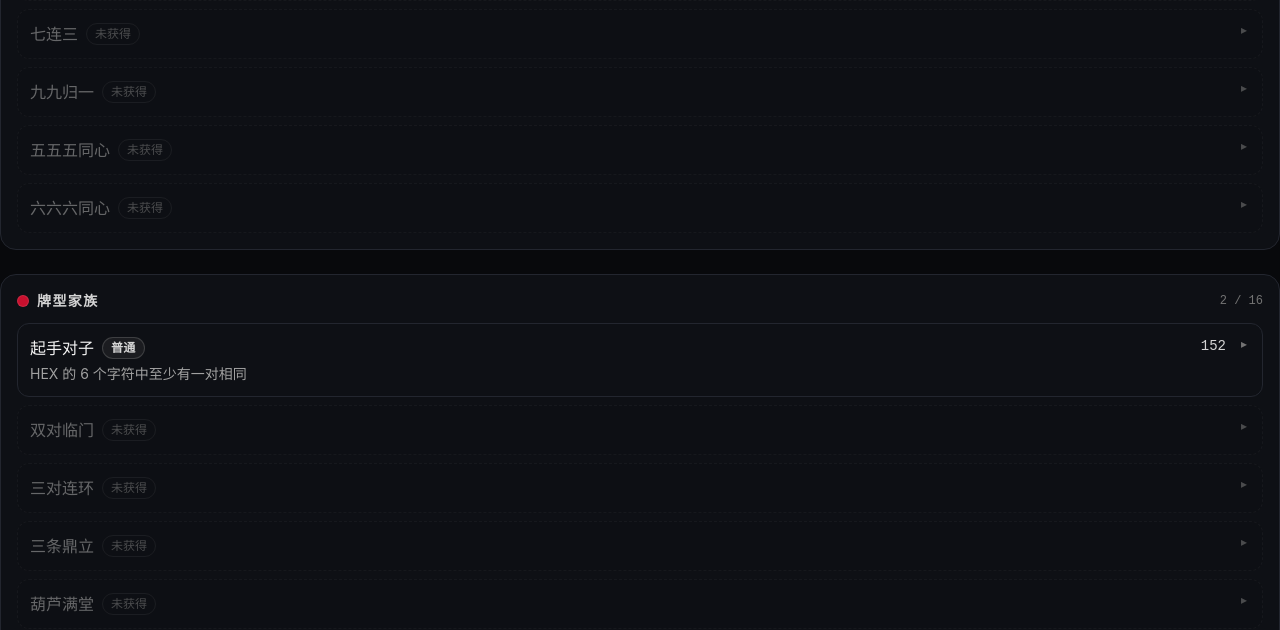
Test: BadgeBook 集成 — 就地展开 › 8b. 被取代的徽章展开后同样完整（与已收集口径一致）
(page scrolled)
Click the button "起手对子 普通 HEX 的 6 个字符中至少有一对相同 152 ▸": click(62, 348) 18,324 -> 1262,396
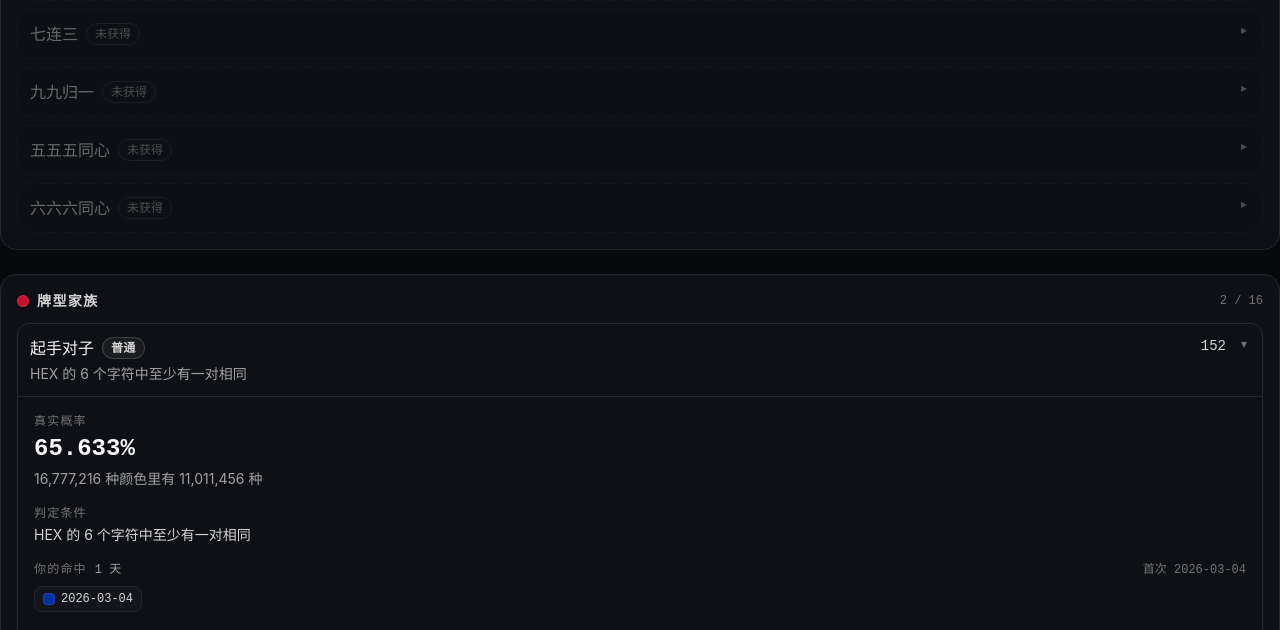
Expected: the element with test id "badge-detail" shows "HEX 的 6 个字符中至少有一对相同", 34,526 -> 251,543
